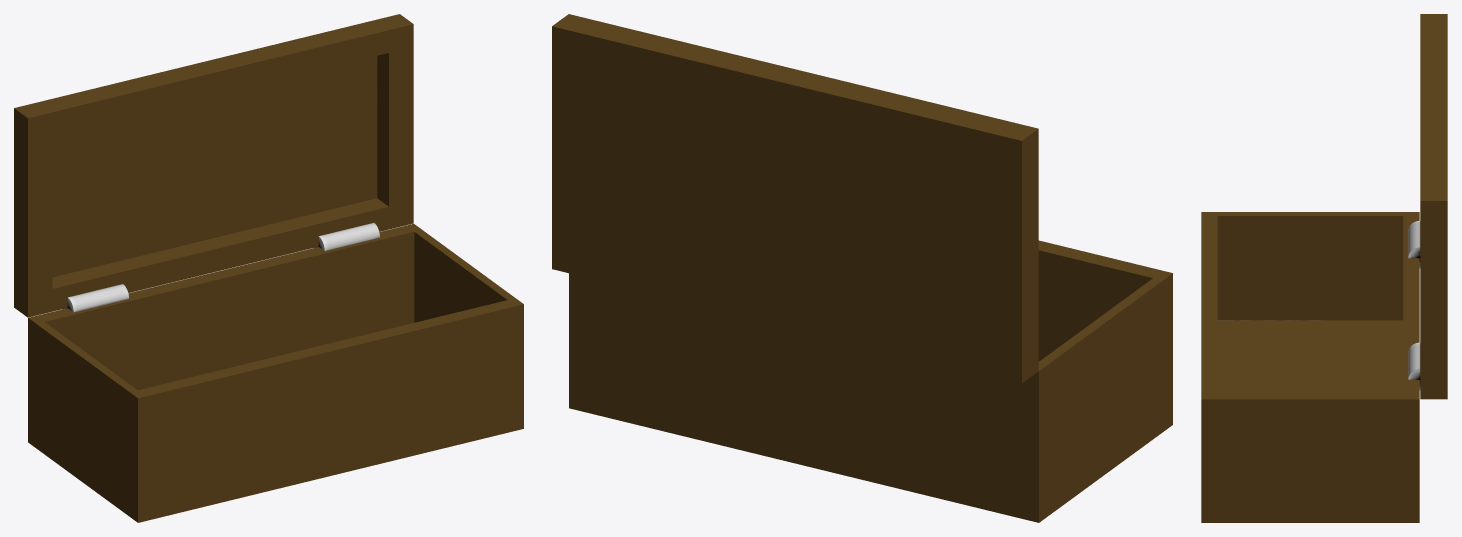
The model's file is Coffre_.fbx.
3 renders of one model, left to right at view 1: azimuth 30°, elevation 25°; view 2: azimuth 150°, elevation 25°; view 3: azimuth 270°, elevation 25°, orthographic. The views are drawn at different scales.
Parts seen in each view (by area): view 1: Chest_LP; view 2: Chest_LP; view 3: Chest_LP.
Part boxes in pixels (<box>): Chest_LP: <box>14,14,523,522</box>; Chest_LP: <box>552,14,1172,522</box>; Chest_LP: <box>1201,14,1447,522</box>.
Bounding box in the file's own units: 402 × 323 × 224.
Materials: 1 (1 with a texture image).
